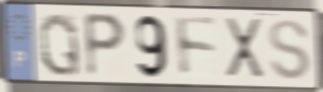9: (134, 13, 170, 81)
F: (172, 14, 220, 81)
P: (82, 10, 128, 81)
Q: (37, 10, 83, 79)
S: (266, 17, 312, 83)
X: (223, 15, 267, 83)
